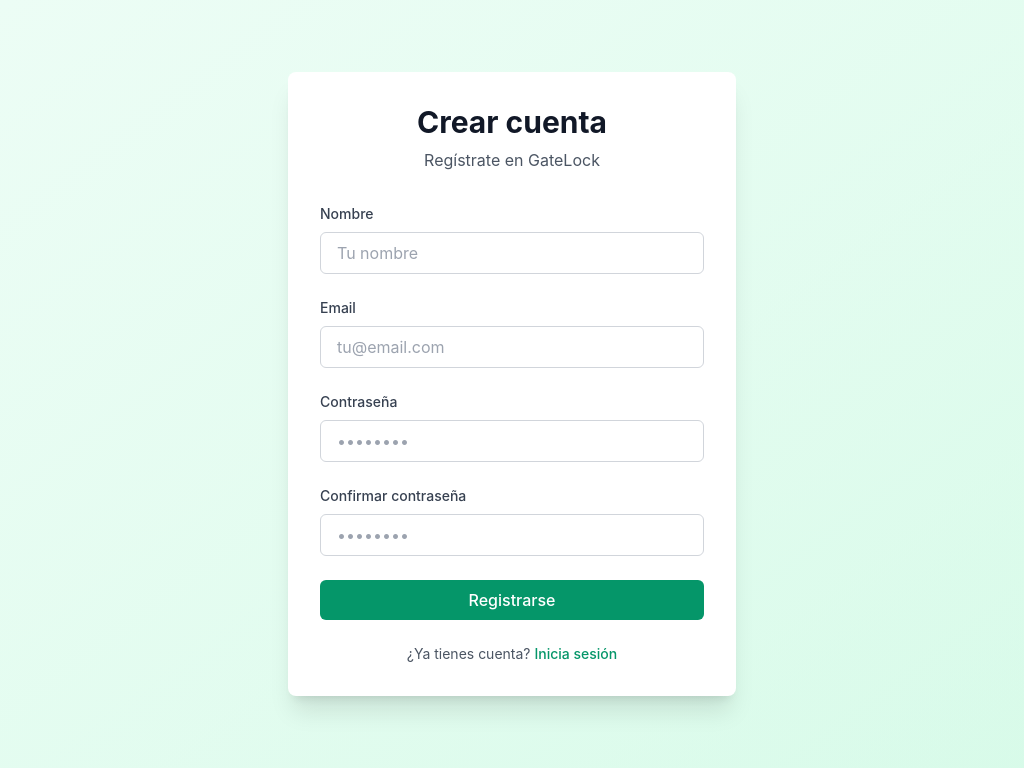
Test: RegisterPage › shows error if password is too short
The image size is (1024, 768).
Type "Test User" into the field labelled "Nombre" at (512, 253), box [320,232,704,274]
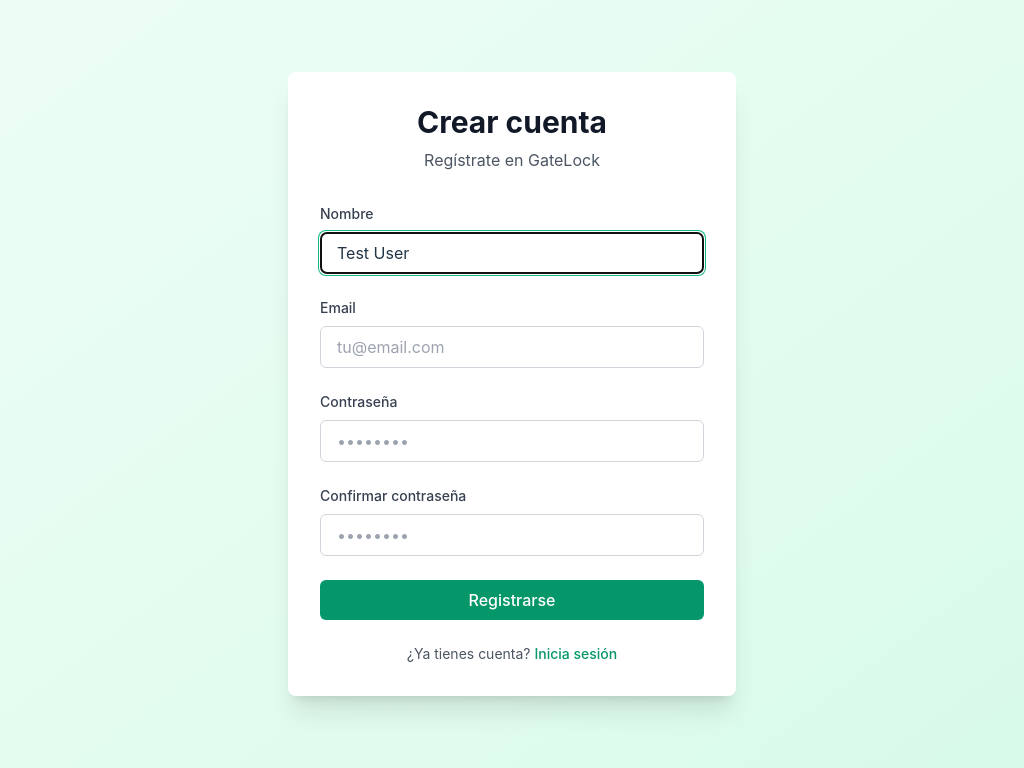
Type "test@example.com" into the field labelled "Email" at (512, 347), box [320,326,704,368]
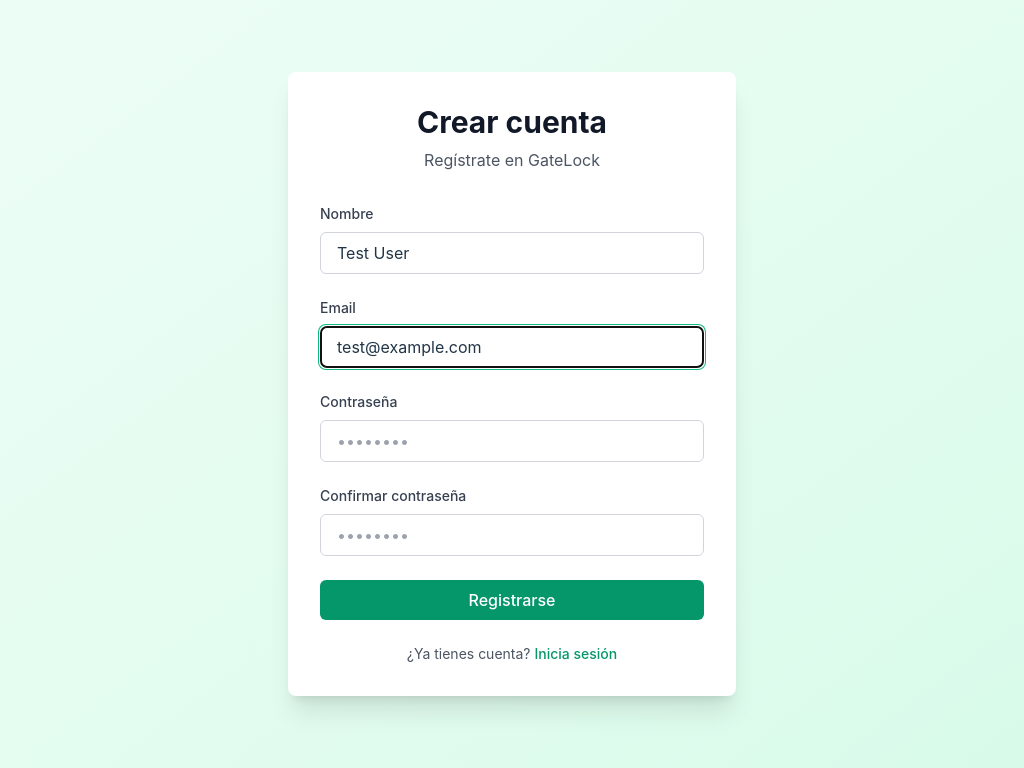
Type "12345" into the password field labelled "Contraseña" at (512, 441), box [320,420,704,462]
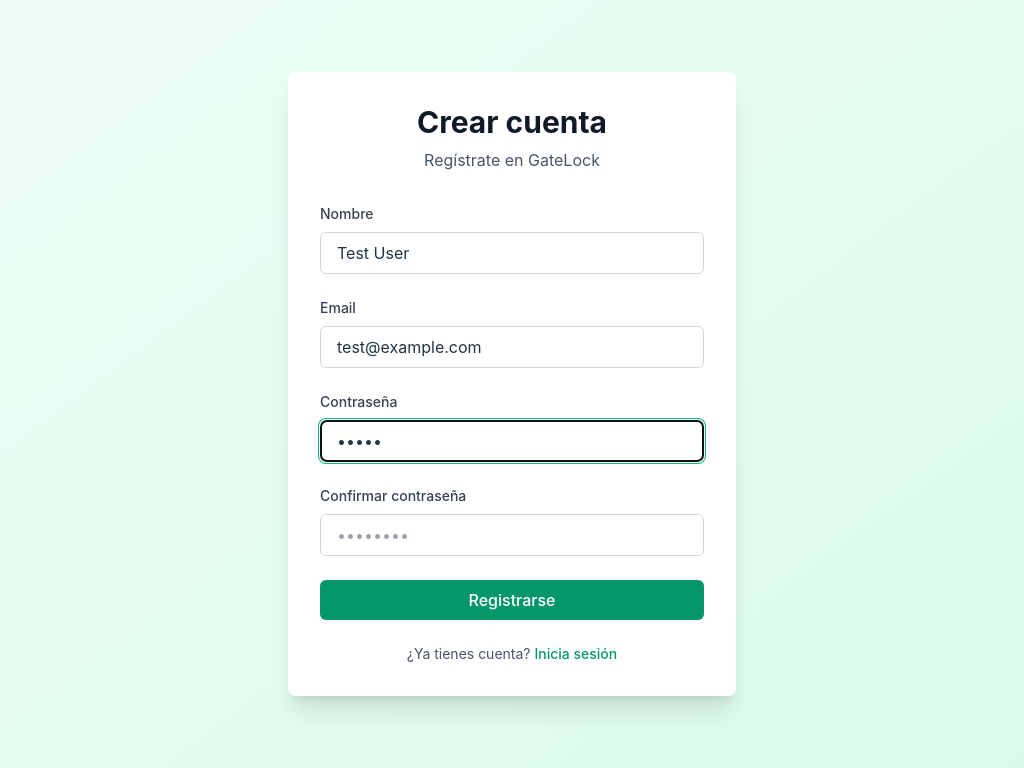
Type "12345" into the password field labelled "Confirmar contraseña" at (512, 535), box [320,514,704,556]
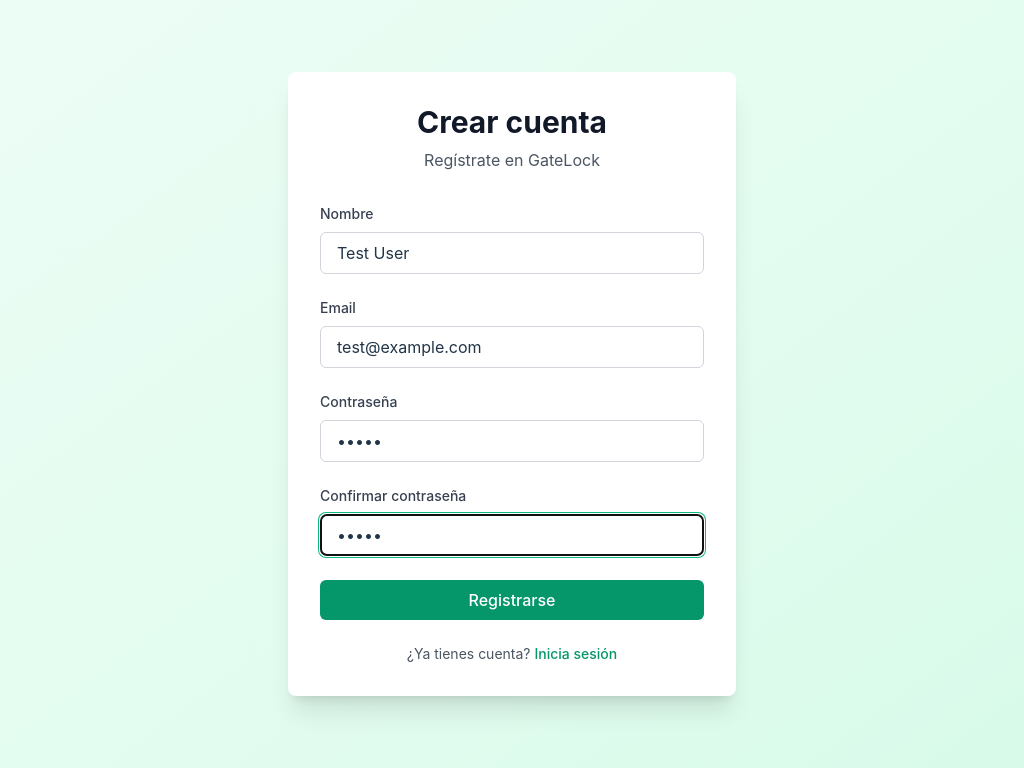
Click the button "Registrarse" at (512, 600), box [320,580,704,620]
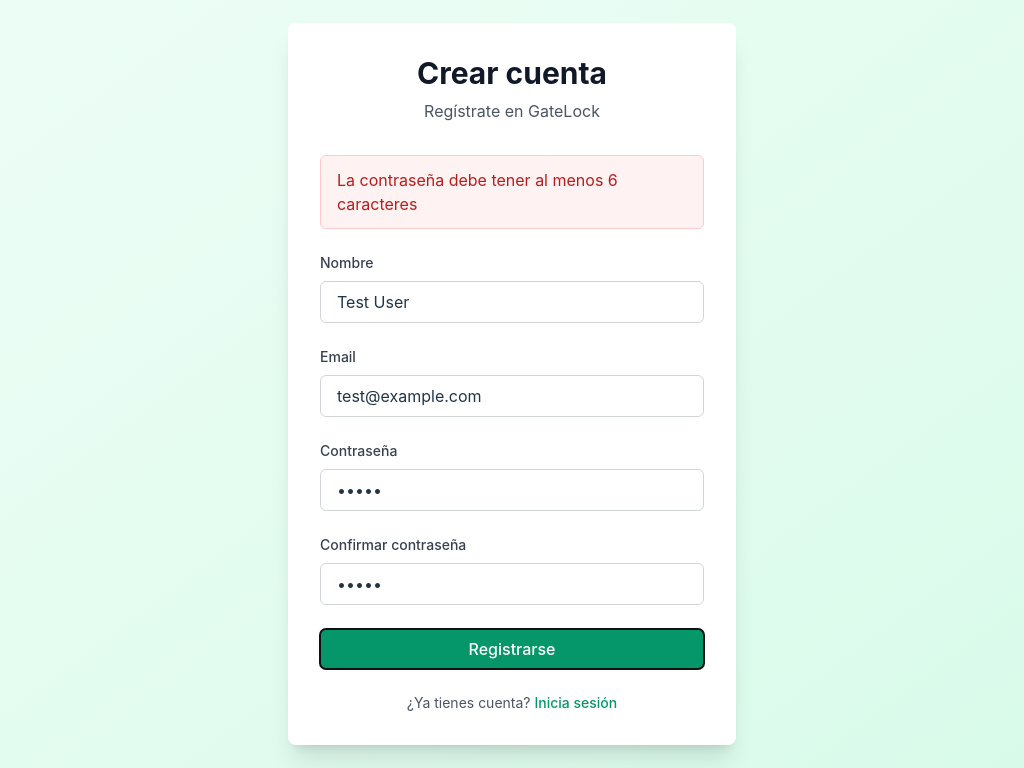
Check: the text "La contraseña debe tener al menos 6 caracteres" is shown, box [320,155,704,229]
